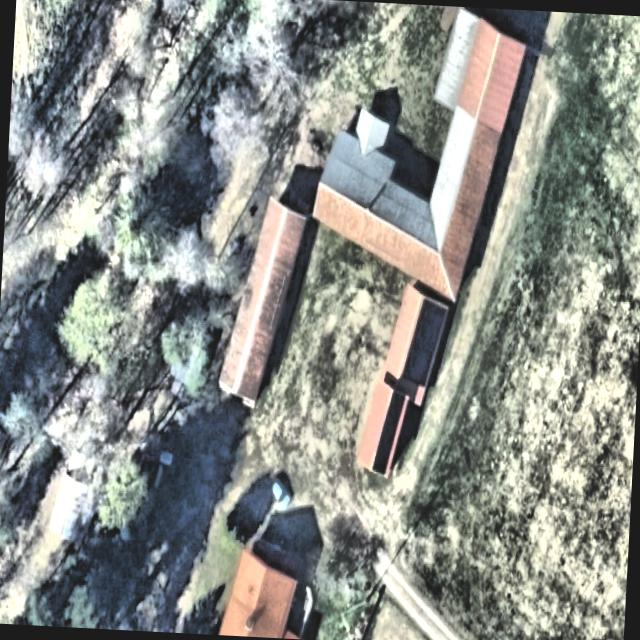roof_pv: (408, 292, 452, 346), (397, 345, 443, 393), (379, 386, 411, 436), (368, 436, 397, 479)
